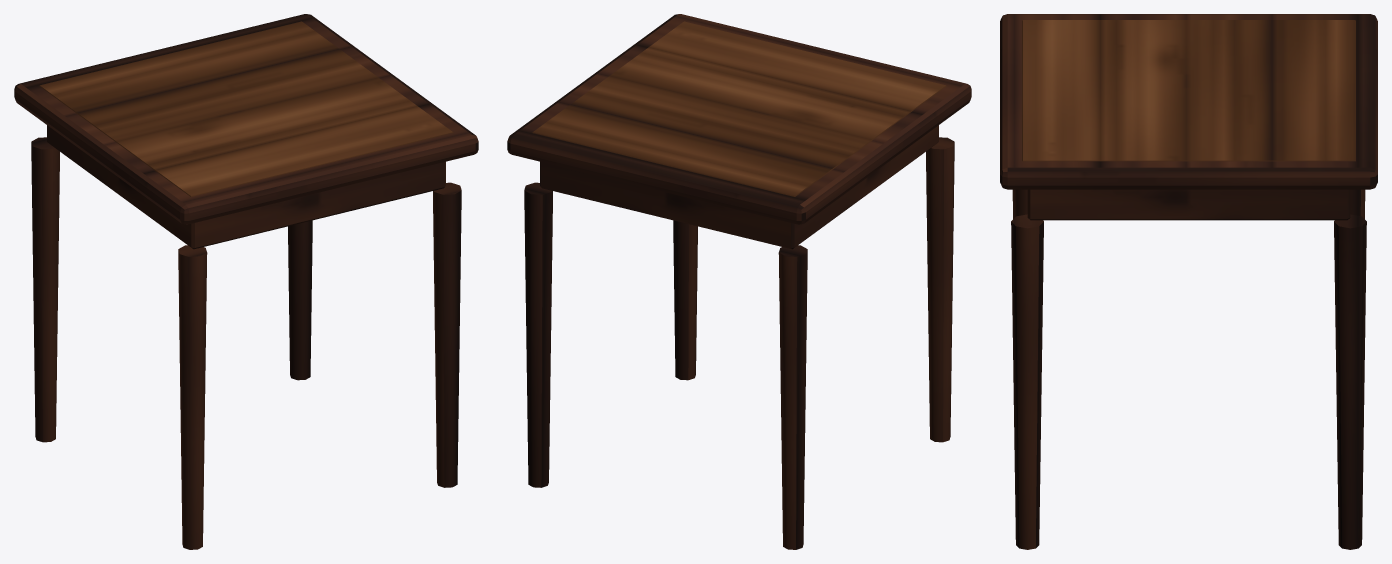
The model's file is table_small.glb.
The picture shows the model from 3 angles, left to right: view 1: azimuth 30°, elevation 25°; view 2: azimuth 150°, elevation 25°; view 3: azimuth 270°, elevation 25°; orthographic projection. The views are drawn at different scales.
Parts seen in each view (by area): view 1: table_small; view 2: table_small; view 3: table_small.
Part boxes in pixels (x1,y1,x2,y2): table_small: (14,14,478,549); table_small: (507,14,971,549); table_small: (1000,14,1377,549).
Bounding box in the file's own units: 0.55 × 0.621 × 0.55.
2 materials, 2 textured.
